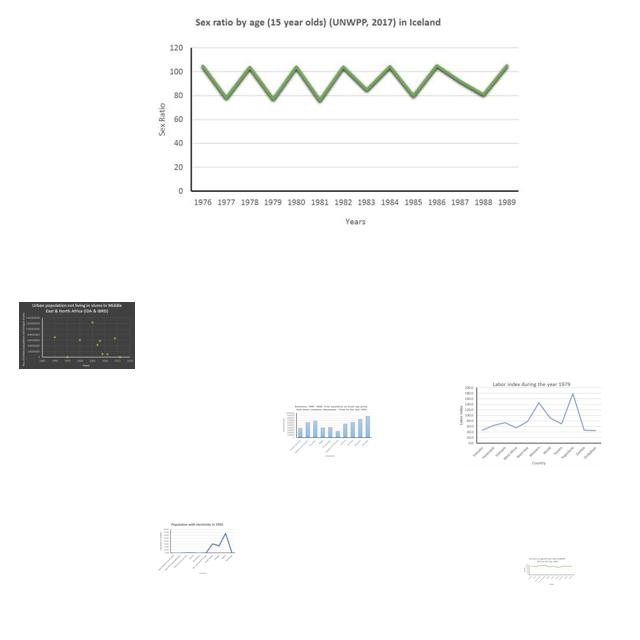Graph: (145, 10, 536, 232), (458, 380, 603, 466), (19, 302, 135, 369), (281, 404, 373, 458), (157, 521, 237, 577), (523, 557, 575, 586)
